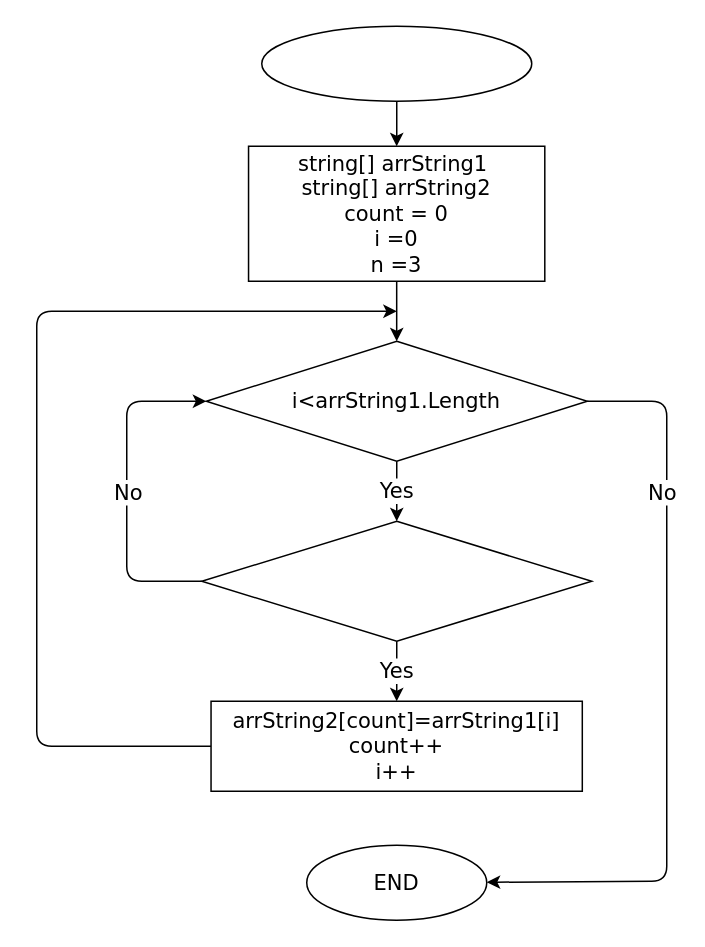
Image size: 705x947. Some labels were removed from this diagram. The shapes that lost their labels are listed below. From the top down, each one's centre as x and y in pixels, then its label:
(x=396, y=63): START
(x=396, y=580): arrString1[i].Length<=n
